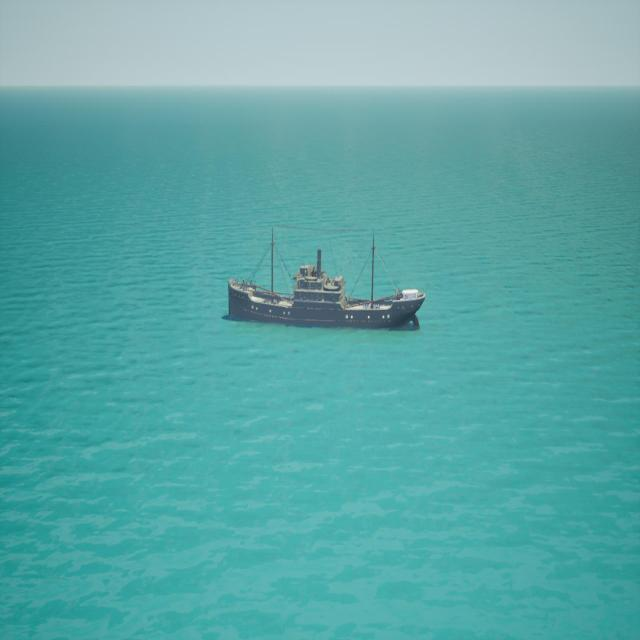fishing ship: (227, 231, 427, 330)
